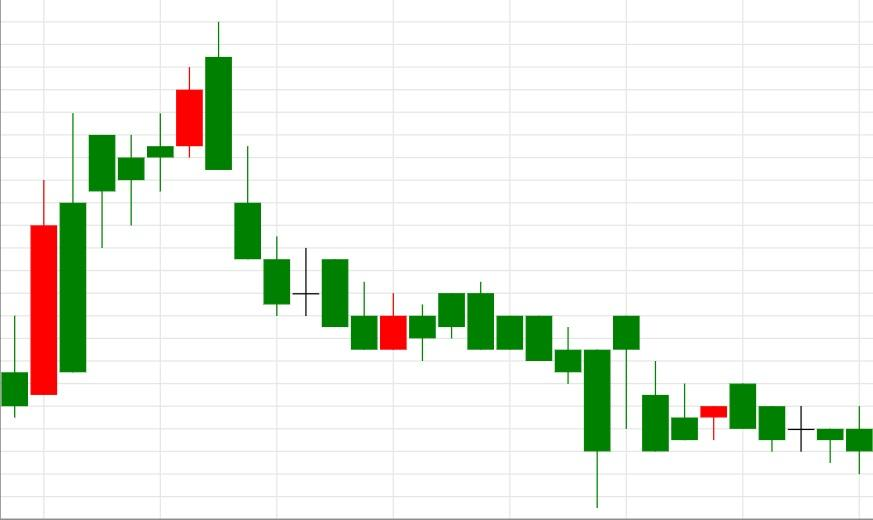bearish_engulfing_fall: (0, 22, 233, 418)
